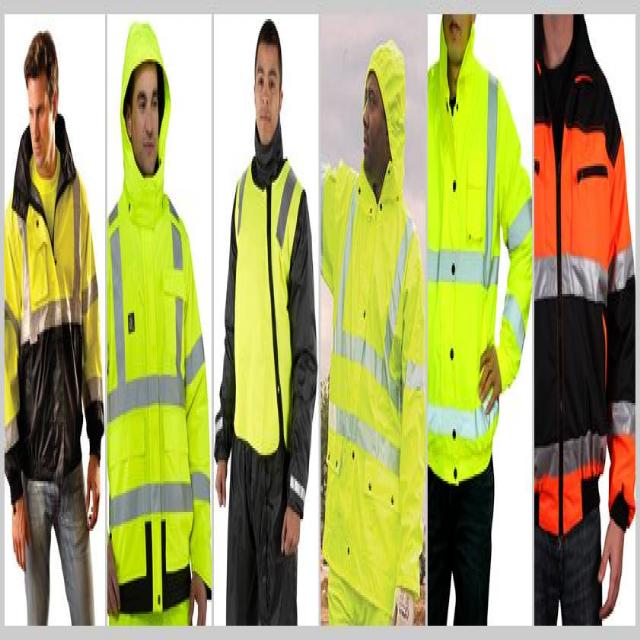Reflective-Jacket: (102, 170, 215, 626), (530, 50, 636, 526), (318, 164, 428, 621), (423, 50, 531, 476), (1, 138, 102, 424), (228, 147, 308, 465)
Safety-Helmet: (360, 31, 409, 168), (117, 15, 171, 111), (20, 14, 61, 83), (252, 9, 286, 83)
